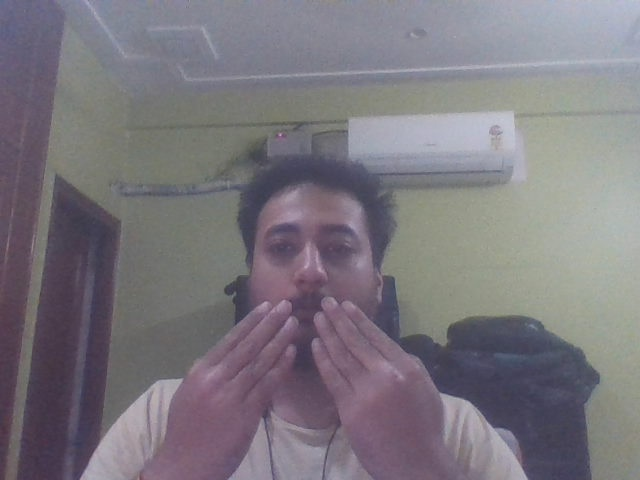Thanks: (103, 292, 510, 480)
